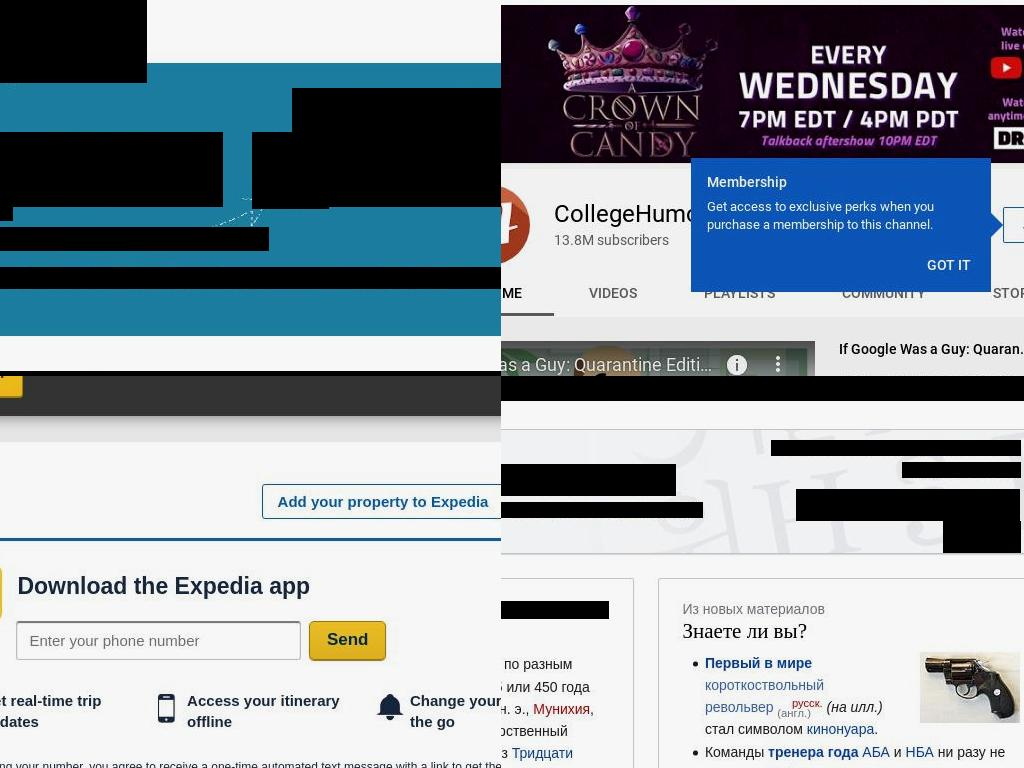button: (261, 483, 501, 519), (308, 620, 387, 660), (910, 246, 987, 285), (839, 341, 1024, 357), (667, 376, 774, 401), (882, 495, 1020, 512), (773, 376, 841, 401), (755, 341, 803, 376), (796, 495, 884, 512), (609, 376, 668, 401), (943, 527, 1020, 544), (719, 341, 755, 376), (1002, 207, 1024, 244)
field: (16, 620, 302, 660), (848, 376, 1024, 397)
heading: (17, 569, 311, 602), (525, 464, 670, 496), (682, 619, 807, 644), (668, 464, 676, 496)
image: (501, 5, 1024, 318), (292, 88, 501, 147), (0, 0, 147, 83), (501, 341, 815, 376), (920, 651, 1020, 723), (0, 227, 269, 251), (252, 132, 329, 209), (501, 185, 530, 266), (152, 693, 183, 729), (374, 693, 405, 729), (719, 347, 755, 376), (761, 347, 797, 376), (717, 207, 733, 224)
link: (704, 676, 824, 715), (501, 354, 720, 375), (505, 502, 700, 518), (704, 654, 812, 671), (908, 440, 1021, 456), (768, 743, 859, 760), (921, 462, 1016, 478), (806, 720, 874, 737), (533, 701, 591, 718), (926, 256, 971, 275), (862, 743, 891, 760), (905, 743, 934, 760), (791, 697, 823, 710)
text: (252, 132, 501, 207), (0, 132, 223, 207), (0, 267, 501, 289), (706, 199, 934, 233), (704, 743, 1005, 768), (187, 690, 355, 732), (682, 601, 1020, 619), (0, 690, 133, 732), (554, 199, 708, 228), (882, 489, 1020, 521), (842, 269, 927, 317), (0, 760, 501, 768), (409, 690, 501, 732), (501, 656, 590, 696), (704, 269, 776, 317), (796, 489, 883, 521), (501, 723, 568, 762), (943, 521, 1021, 553), (309, 624, 386, 656), (589, 269, 638, 317), (771, 440, 909, 456), (554, 232, 669, 249), (501, 601, 609, 619), (704, 720, 807, 737), (993, 269, 1024, 317), (706, 174, 787, 191), (704, 743, 768, 760), (501, 269, 523, 317), (826, 698, 883, 715), (501, 701, 527, 718), (777, 706, 811, 719), (902, 462, 922, 478), (889, 743, 906, 760), (525, 701, 533, 718), (590, 701, 595, 718), (874, 720, 879, 737), (698, 502, 703, 518), (1016, 462, 1021, 478)
